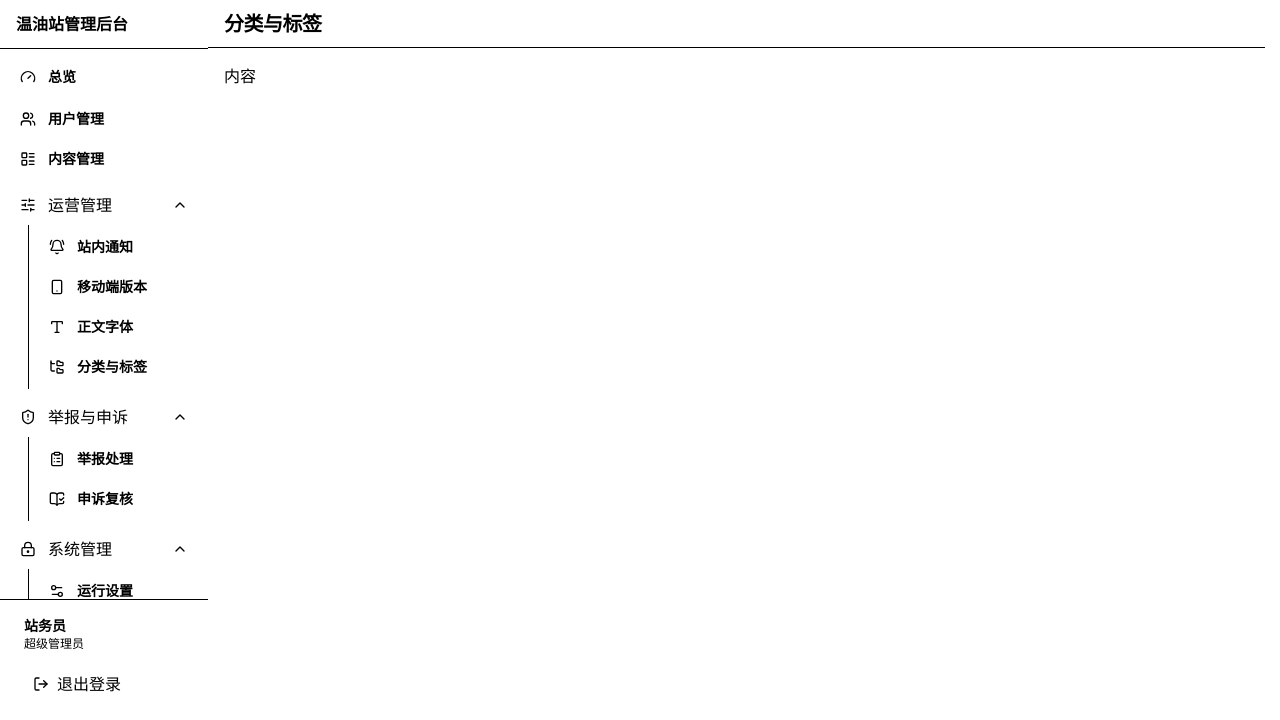
Test case: StationFrame navigation › 默认展开所有功能分组
Check: the link "举报处理" is shown, box x1=49 y1=449 x2=133 y2=468
Click the button "举报与申诉" at coordinates (104, 417), box x1=8 y1=397 x2=200 y2=437
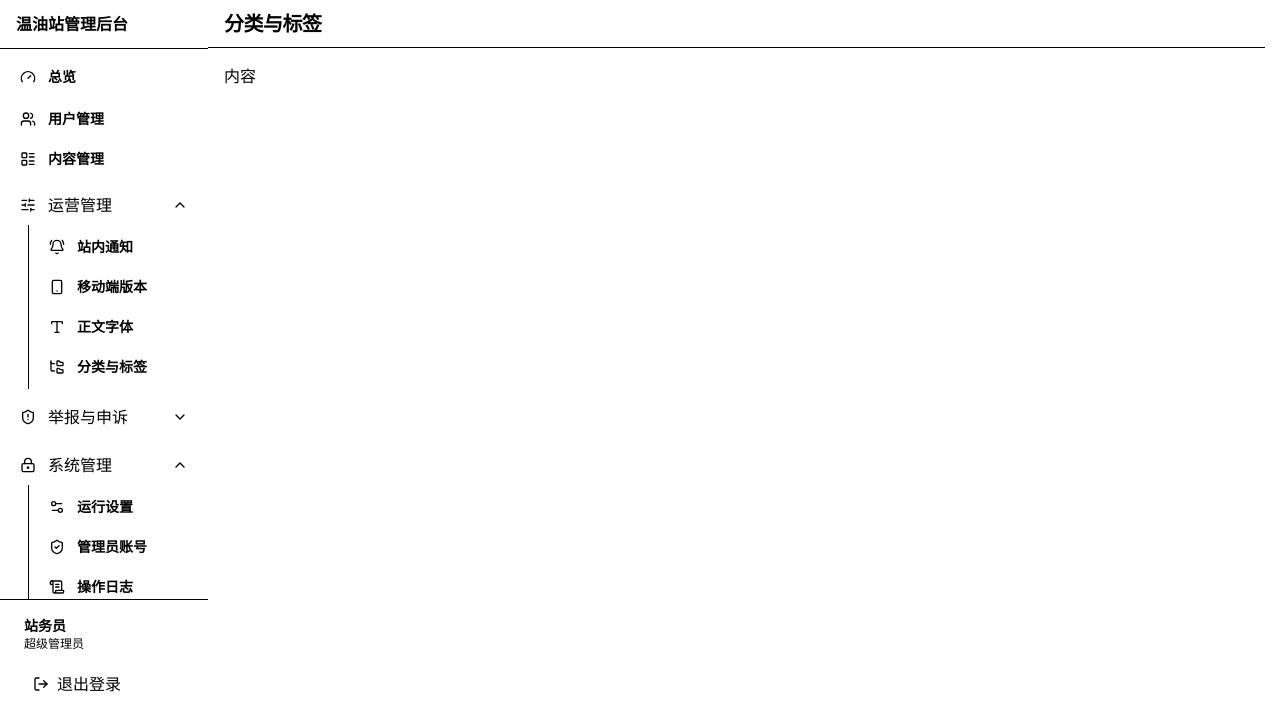
Click the button "举报与申诉" at coordinates (104, 417), box x1=8 y1=397 x2=200 y2=437
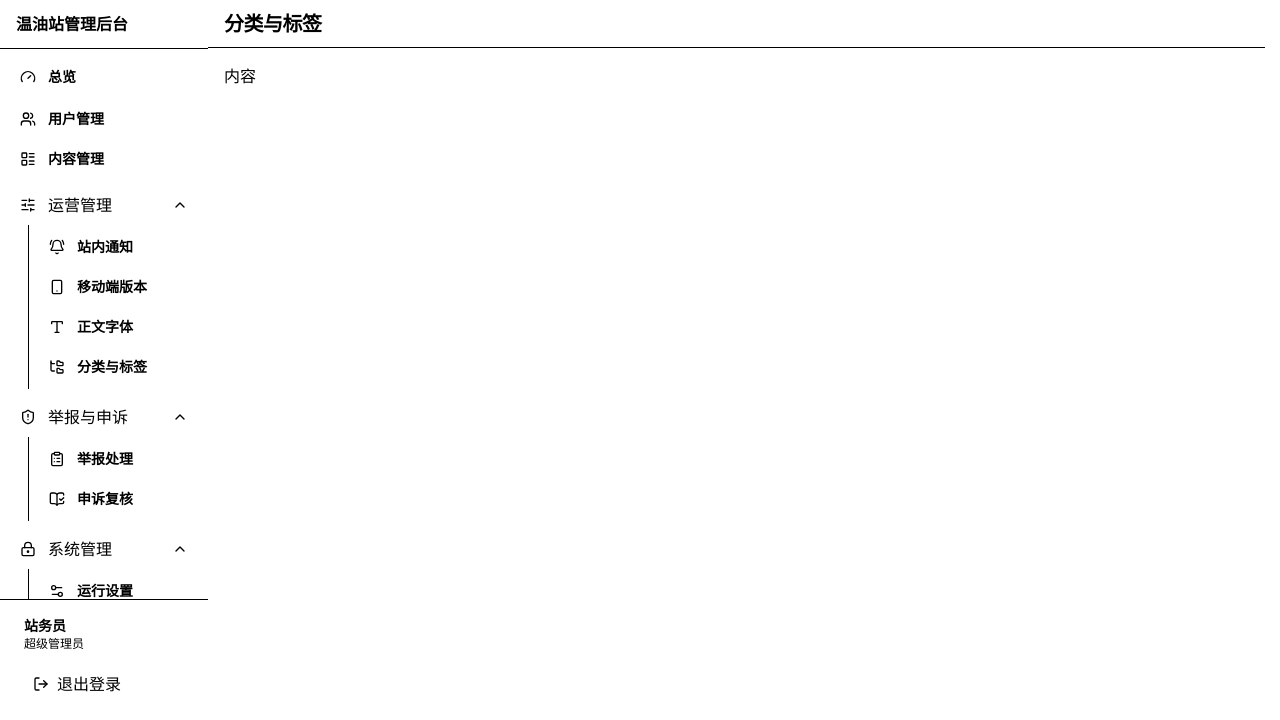
Check: the link "举报处理" is shown, box x1=49 y1=449 x2=133 y2=468
